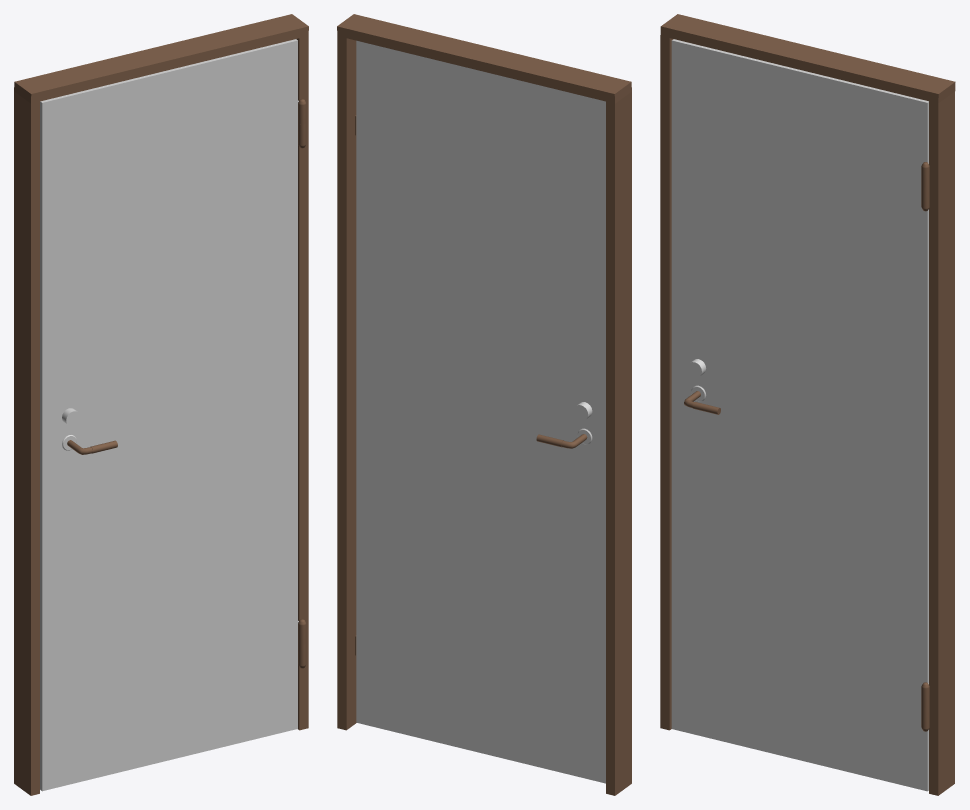
File: Door_3DModel.fbx
3 views of the same model, side by side, from view 1: azimuth 30°, elevation 25°; view 2: azimuth 150°, elevation 25°; view 3: azimuth 330°, elevation 25° (orthographic).
Visible parts, largest first — view 1: DoorInside, DoorFramework; view 2: DoorInside, DoorFramework; view 3: DoorInside, DoorFramework.
Boxes of the visible parts, bbox=[...] form: DoorInside: bbox=[40, 39, 306, 791]; DoorFramework: bbox=[14, 14, 308, 795]; DoorInside: bbox=[356, 40, 605, 783]; DoorFramework: bbox=[337, 14, 631, 795]; DoorInside: bbox=[671, 39, 929, 791]; DoorFramework: bbox=[660, 14, 955, 795].
Size of the model in its own units: 0.761 by 1.83 by 0.1826.
